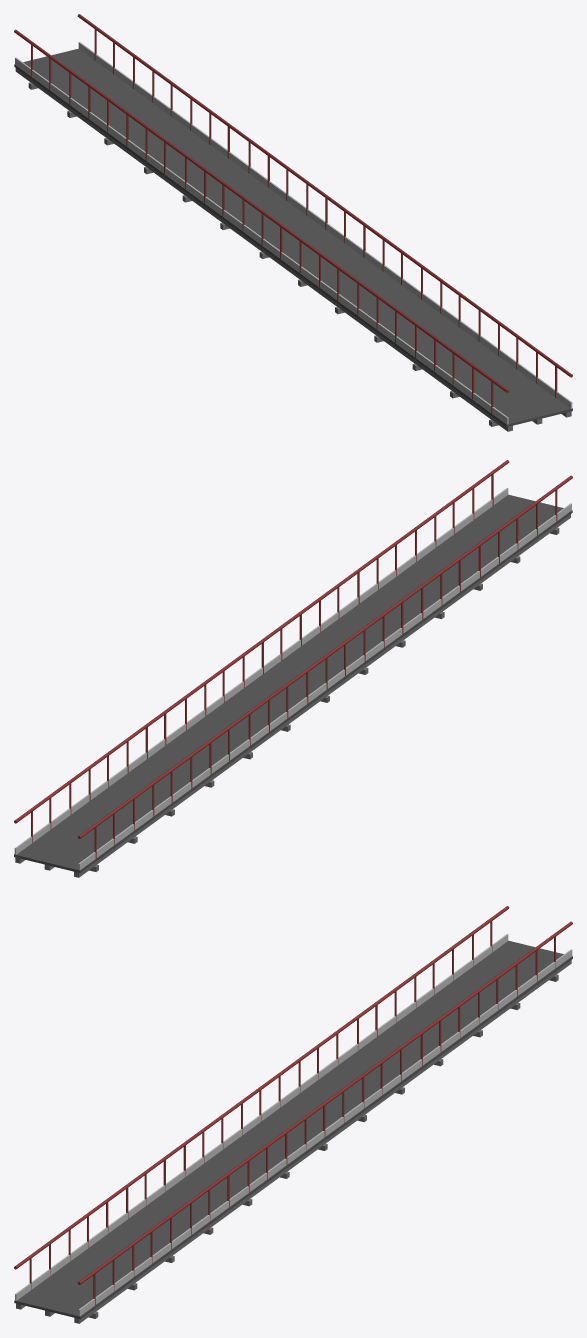
The model's file is Catwalk.fbx.
3 views of the same model, one above another, from view 1: azimuth 30°, elevation 25°; view 2: azimuth 150°, elevation 25°; view 3: azimuth 330°, elevation 25° (orthographic).
Visible parts, largest first — view 1: polySurface73; view 2: polySurface73; view 3: polySurface73.
Part boxes in pixels (left/top/right/bottom): polySurface73: left=14, top=14, right=572, bottom=431; polySurface73: left=14, top=460, right=572, bottom=877; polySurface73: left=14, top=906, right=572, bottom=1323.
Size of the model in its own units: 3.25 by 2.13 by 40.76.
